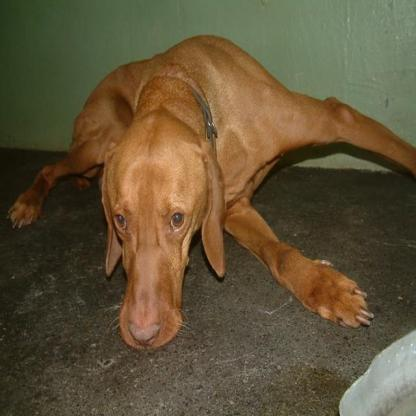vizsla: (4, 32, 413, 349)
